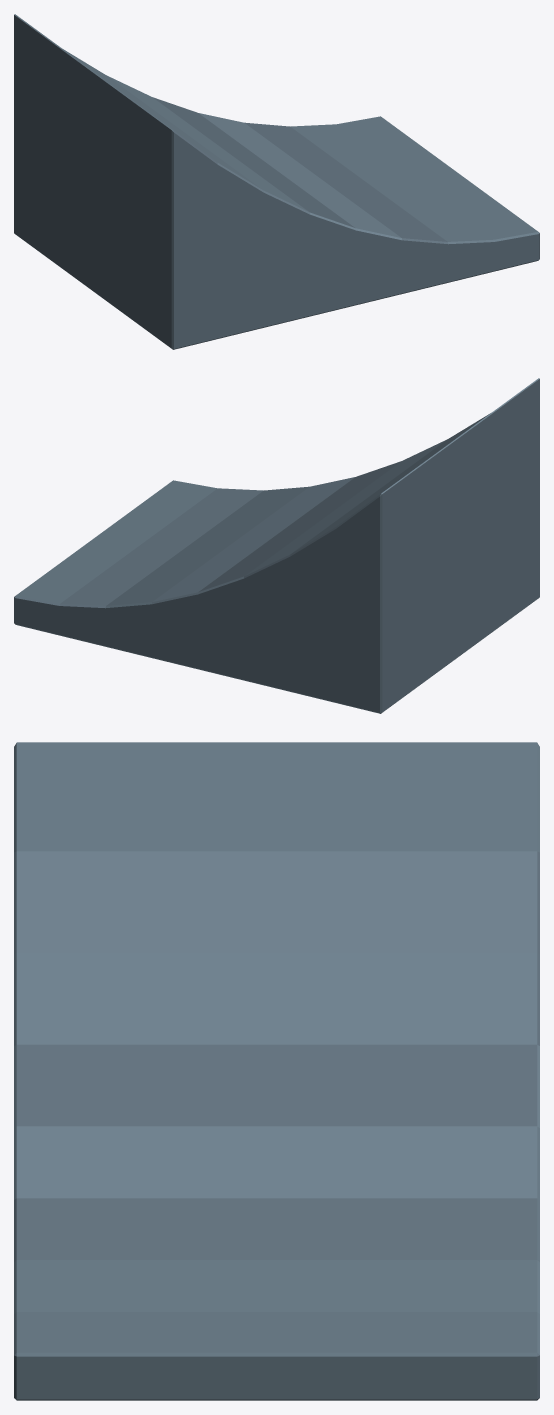
File: P45_Curved_Ramp.fbx
3 views of the same model, one above another, from view 1: azimuth 30°, elevation 25°; view 2: azimuth 150°, elevation 25°; view 3: azimuth 270°, elevation 25° (orthographic). The views are drawn at different scales.
Parts seen in each view (by area): view 1: P45_Curved_Ramp; view 2: P45_Curved_Ramp; view 3: P45_Curved_Ramp.
Part boxes in pixels (x1,y1,x2,y2): P45_Curved_Ramp: (14, 14, 539, 349); P45_Curved_Ramp: (14, 378, 539, 713); P45_Curved_Ramp: (14, 742, 539, 1400).
Size of the model in its own units: 2 by 1.14 by 1.5.
1 material, 1 textured.
